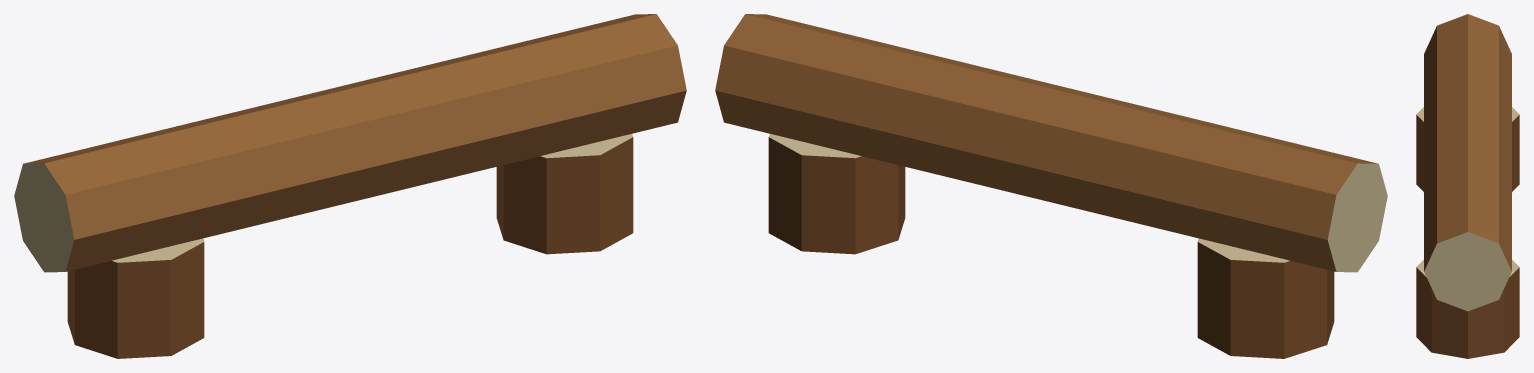
File: camp_bench.glb
The picture shows the model from 3 angles, left to right: view 1: azimuth 30°, elevation 25°; view 2: azimuth 150°, elevation 25°; view 3: azimuth 270°, elevation 25°; orthographic projection. The views are drawn at different scales.
Visible parts, largest first — view 1: camp_bench; view 2: camp_bench; view 3: camp_bench.
Boxes of the visible parts, x1,y1,x2,y2 form: camp_bench: (14,14,686,358); camp_bench: (715,14,1387,358); camp_bench: (1416,14,1519,358).
Size of the model in its own units: 2 by 0.59 by 0.4.
1 material, 1 textured.
